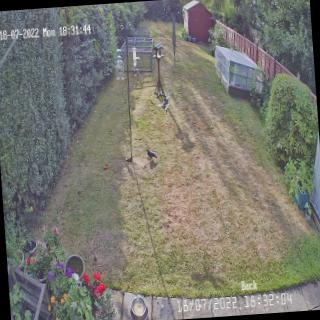bird: (146, 148, 158, 160), (124, 155, 134, 169)
